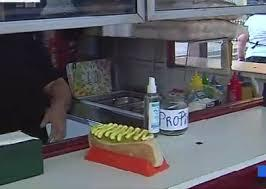Completos: (85, 118, 167, 173)
